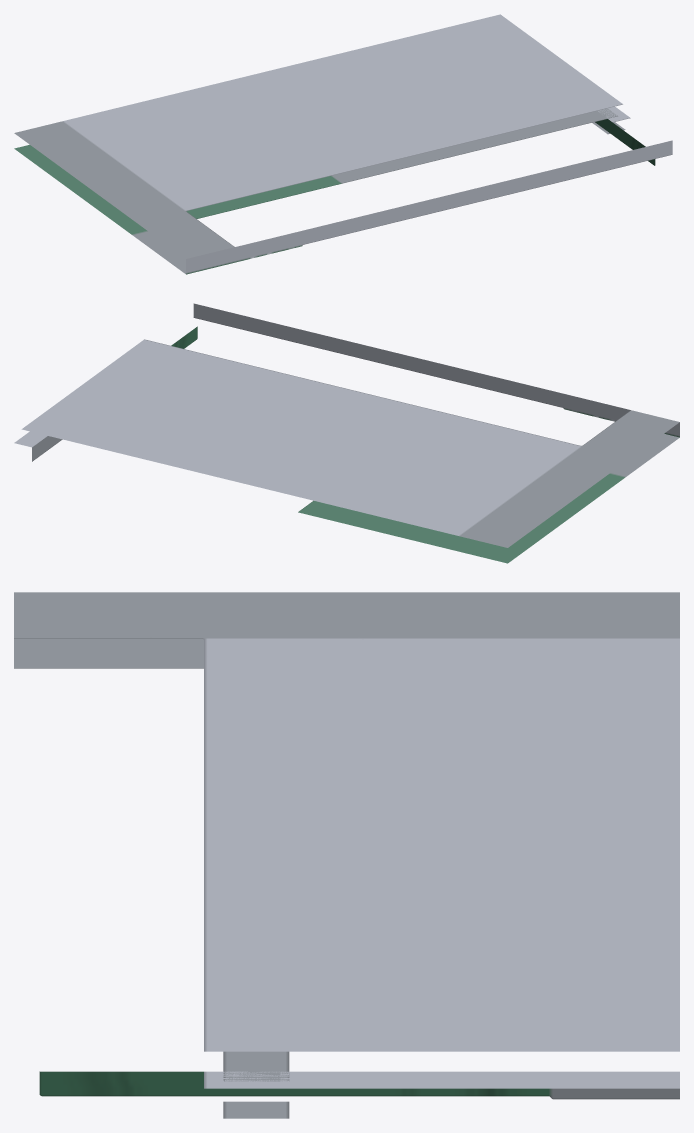
Rendered from section-1.obj.
3 views of the same model, one above another, from view 1: azimuth 30°, elevation 25°; view 2: azimuth 150°, elevation 25°; view 3: azimuth 270°, elevation 25° (orthographic). The views are drawn at different scales.
Size of the model in its own units: 1 by 0.06 by 0.6037.
